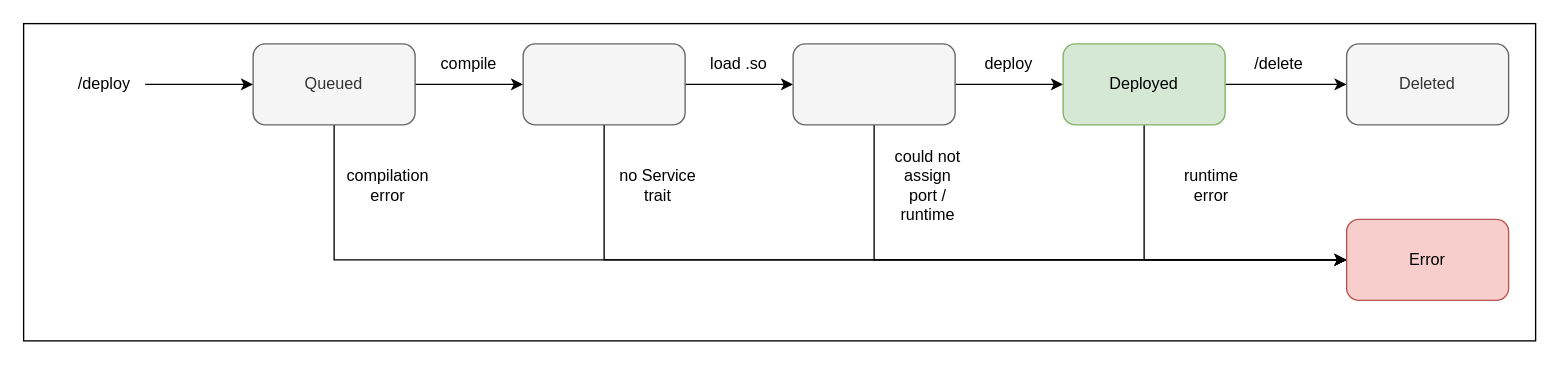
Image size: 1559x365. Some labels were removed from this diagram. The centre of each missing label's shape, as x and y in pixels:
"Built" goes at (x=603, y=84).
"Loaded" goes at (x=873, y=84).
